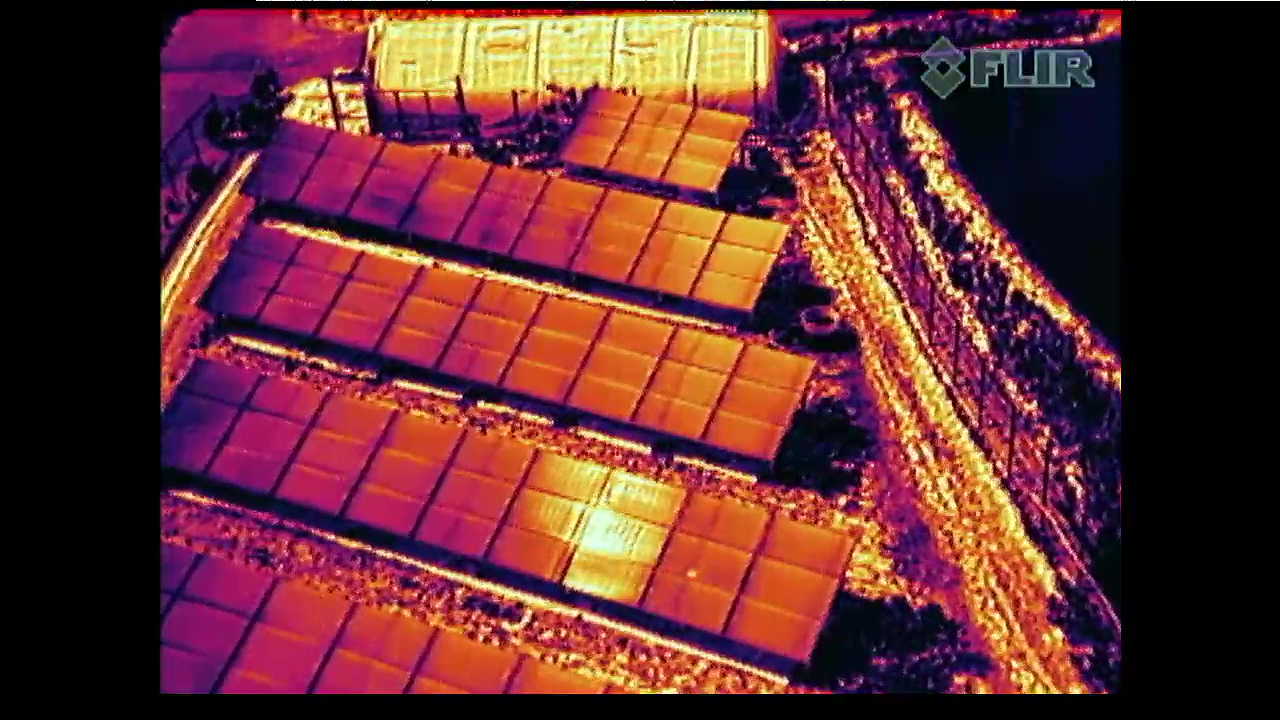hotspot: (639, 491, 773, 633)
